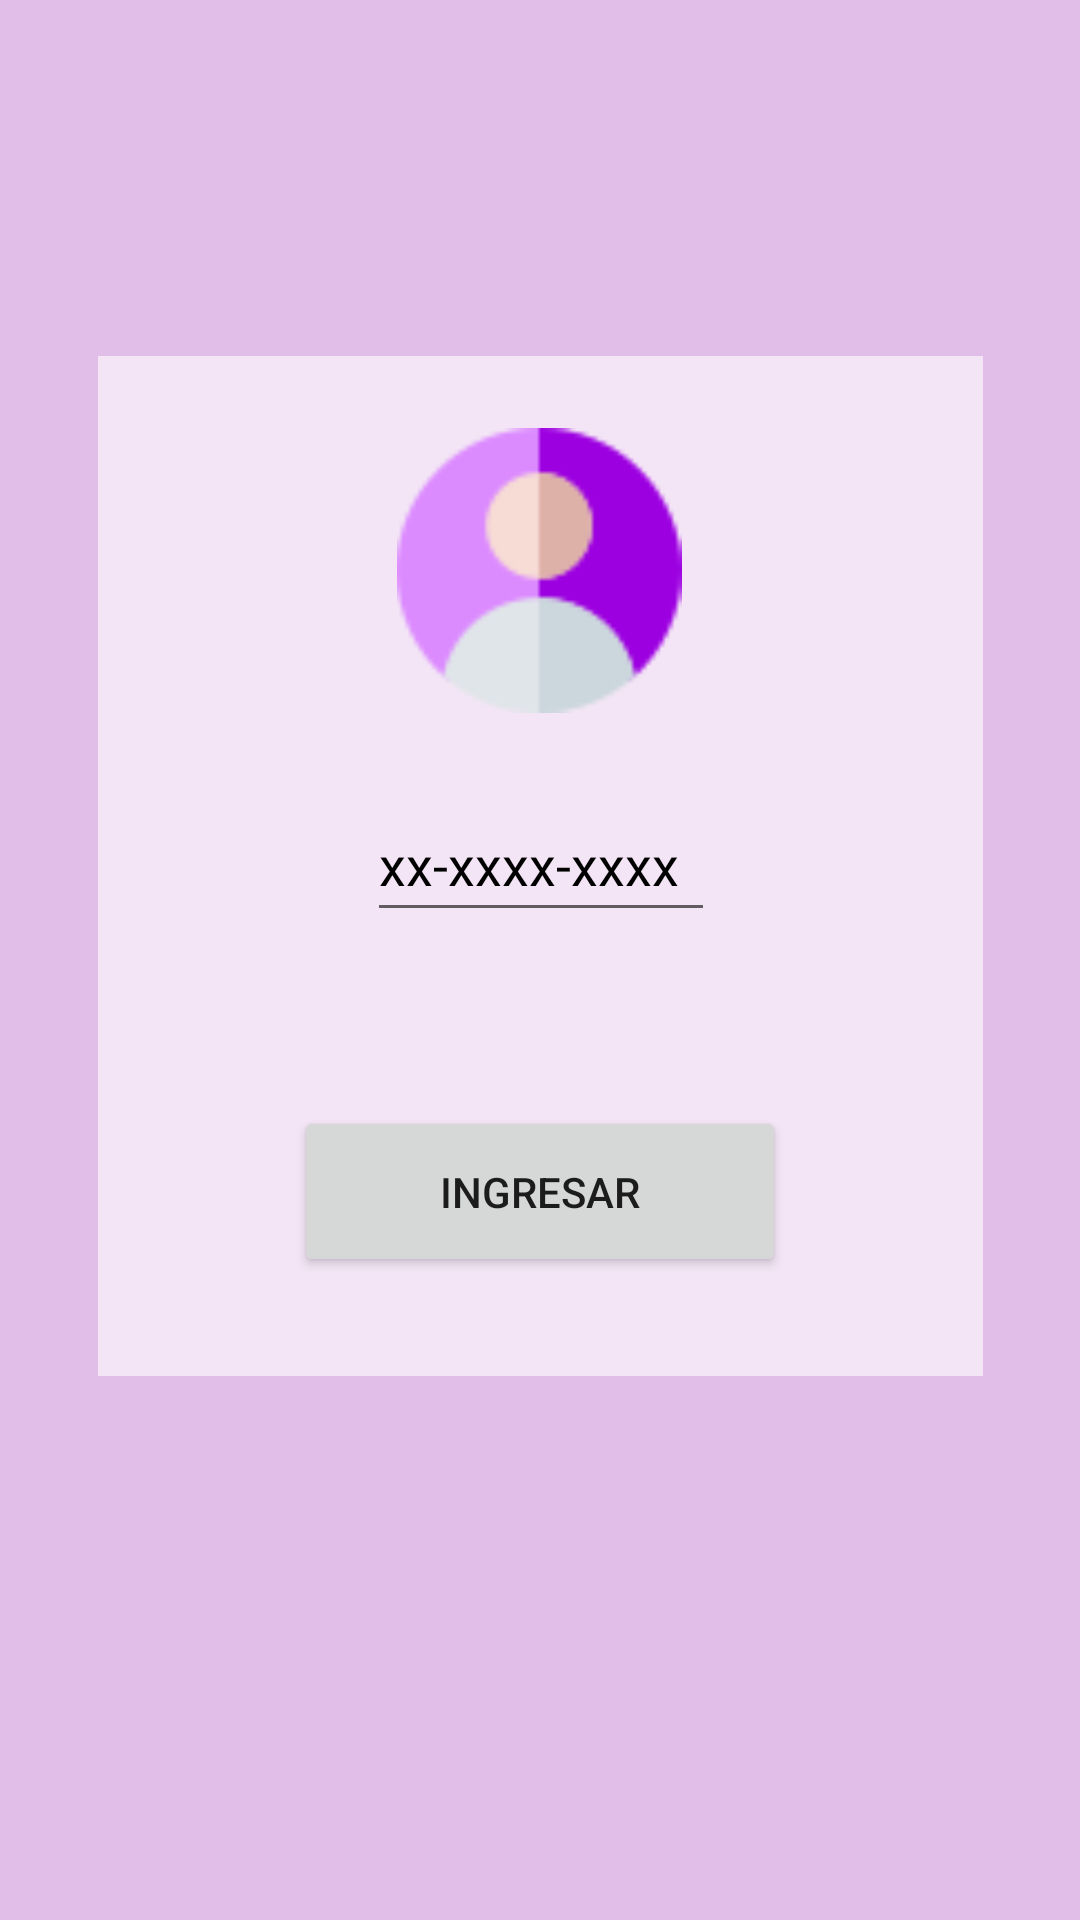

Named icons in this screenshot (1080 x 1920) and their centers, point (x, y):
usuario: point (539, 570)
